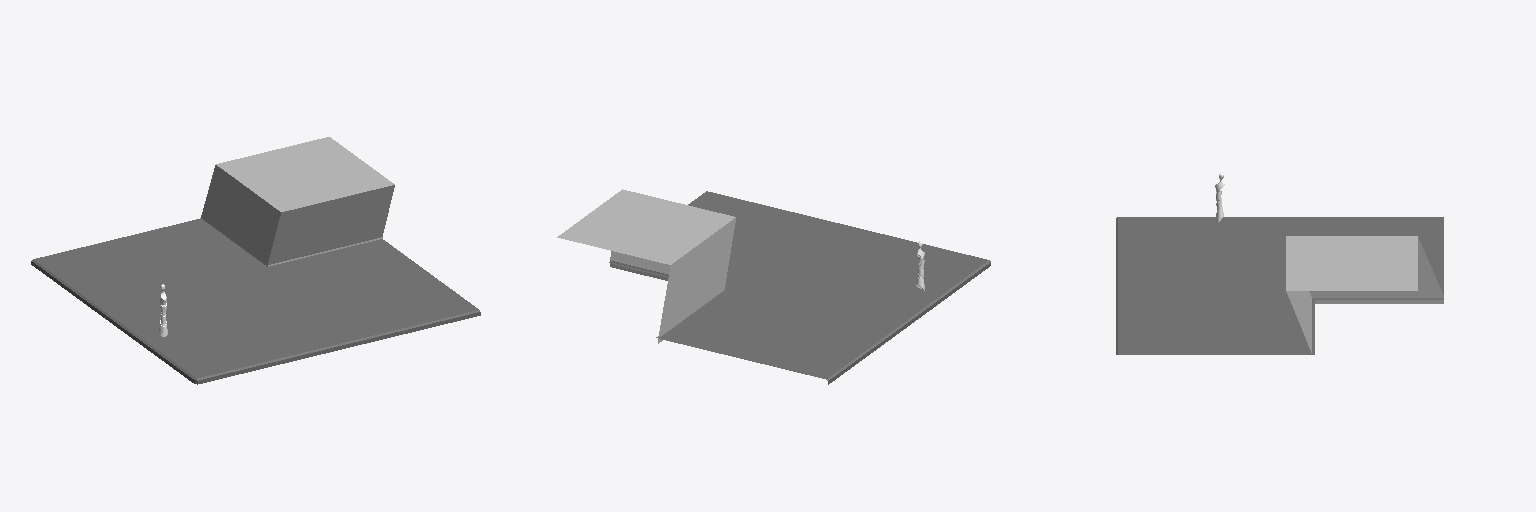
File: avatar_1.obj
3 views of the same model, side by side, from view 1: azimuth 30°, elevation 25°; view 2: azimuth 150°, elevation 25°; view 3: azimuth 270°, elevation 25° (orthographic).
Parts seen in each view (by area): view 1: avatar_1.obj; view 2: avatar_1.obj; view 3: avatar_1.obj.
Part boxes in pixels (x1,y1,x2,y2): avatar_1.obj: (31, 137, 480, 384); avatar_1.obj: (557, 189, 990, 384); avatar_1.obj: (1116, 173, 1443, 354).
Size of the model in its own units: 9.9 by 2.28 by 9.9.